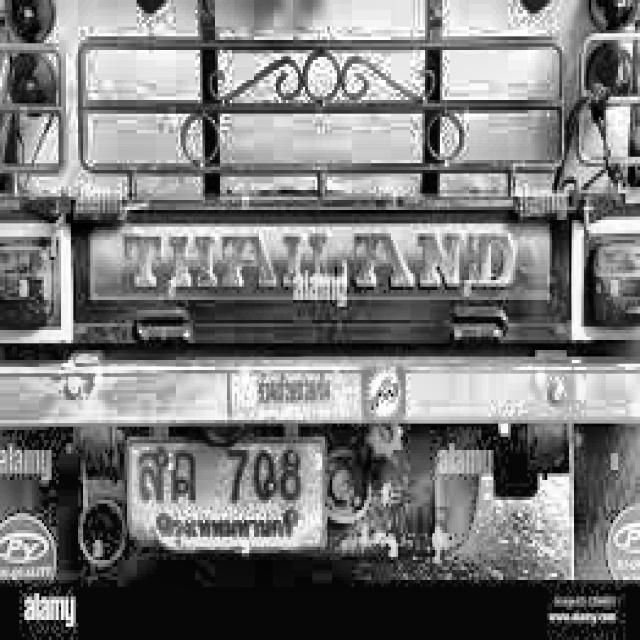license-plate: (120, 430, 340, 570)
